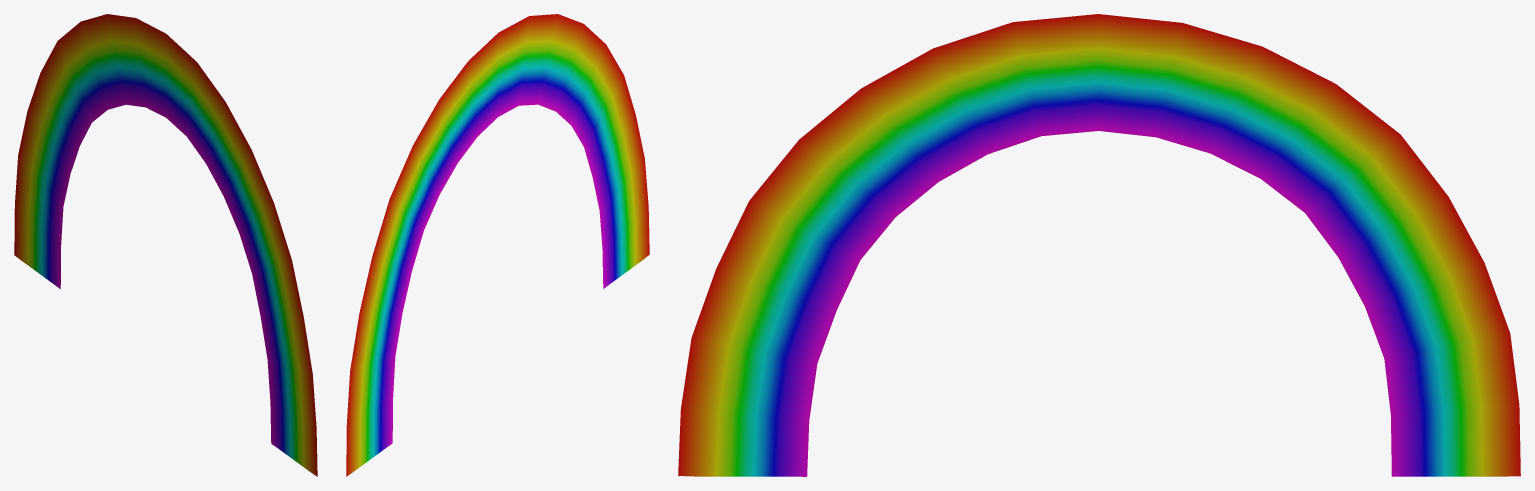
The model's file is Rainbow.fbx.
3 renders of one model, left to right at view 1: azimuth 30°, elevation 25°; view 2: azimuth 150°, elevation 25°; view 3: azimuth 270°, elevation 25°, orthographic. The views are drawn at different scales.
Visible parts, largest first — view 1: 立方体; view 2: 立方体; view 3: 立方体.
Part boxes in pixels (bbox=[...]): 立方体: bbox=[14, 14, 317, 476]; 立方体: bbox=[346, 14, 649, 476]; 立方体: bbox=[678, 14, 1520, 476].
Bounding box in the file's own units: 0.000308 × 1049 × 1731.
1 material, 1 textured.
